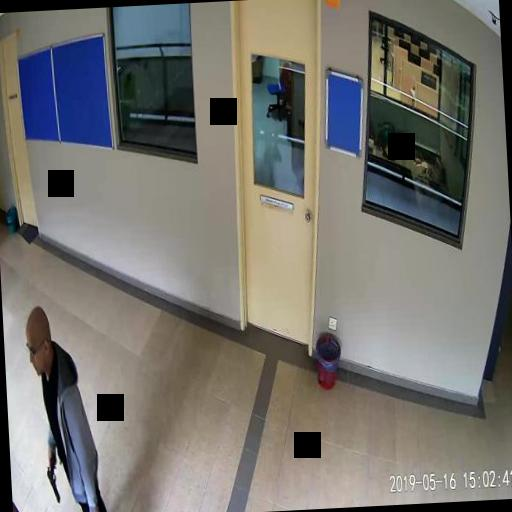Handgun: (44, 454, 60, 500)
